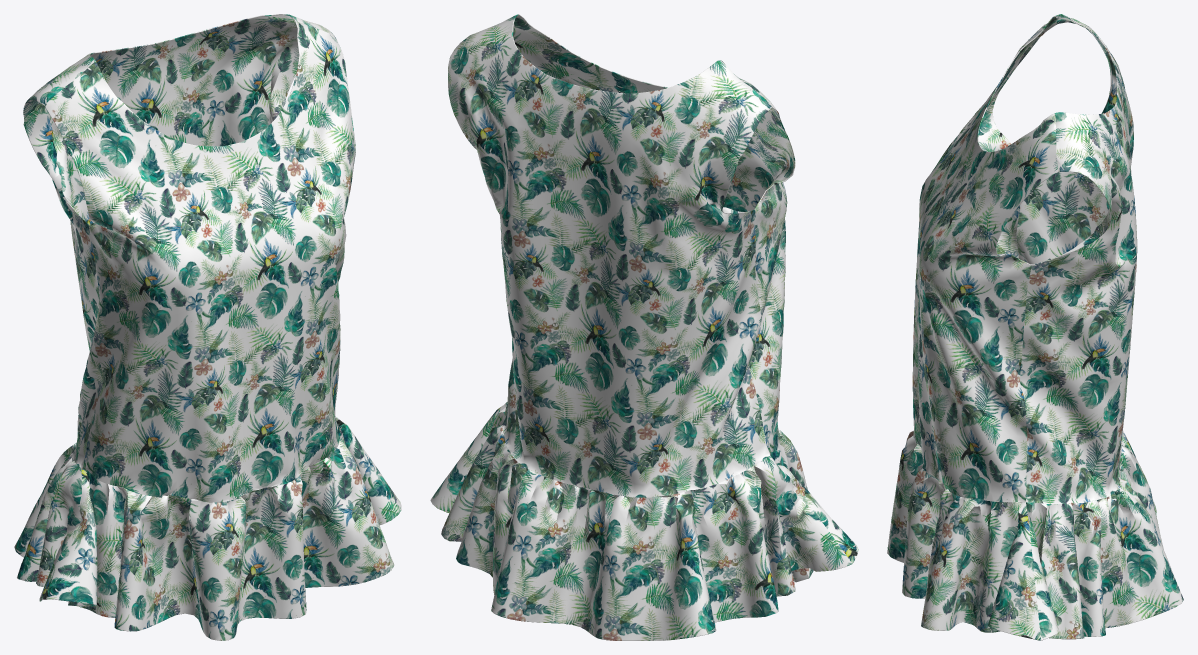
Rendered from VOLANLıATLETcombined.fbx.
3 renders of one model, left to right at view 1: azimuth 30°, elevation 25°; view 2: azimuth 150°, elevation 25°; view 3: azimuth 270°, elevation 25°, orthographic. The views are drawn at different scales.
Visible parts, largest first — view 1: 2__74_G4047_V4_Inner_5_1; view 2: 2__74_G4047_V4_Inner_5_1; view 3: 2__74_G4047_V4_Inner_5_1.
Boxes of the visible parts, x1=… form: 2__74_G4047_V4_Inner_5_1: x1=14, y1=14, x2=401, y2=640; 2__74_G4047_V4_Inner_5_1: x1=430, y1=14, x2=858, y2=640; 2__74_G4047_V4_Inner_5_1: x1=887, y1=14, x2=1183, y2=640.
Bounding box in the file's own units: 0.4738 × 0.6469 × 0.3281.
Materials: 1 (1 with a texture image).
